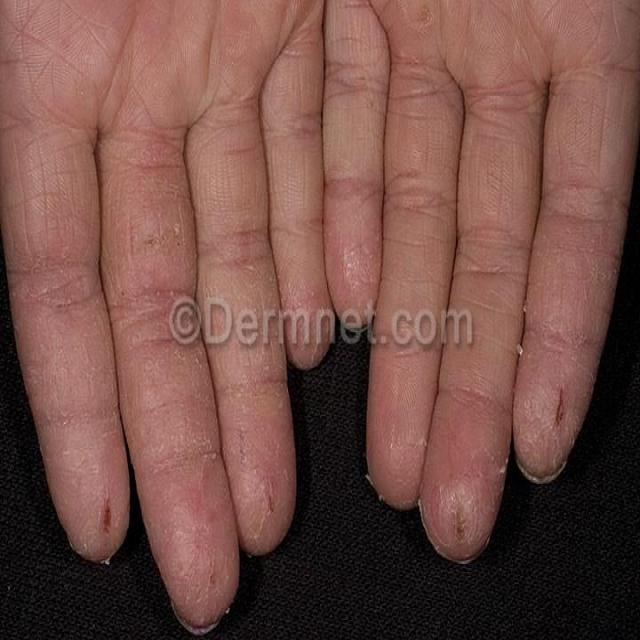liquenificacion 1: (0, 0, 639, 336)
